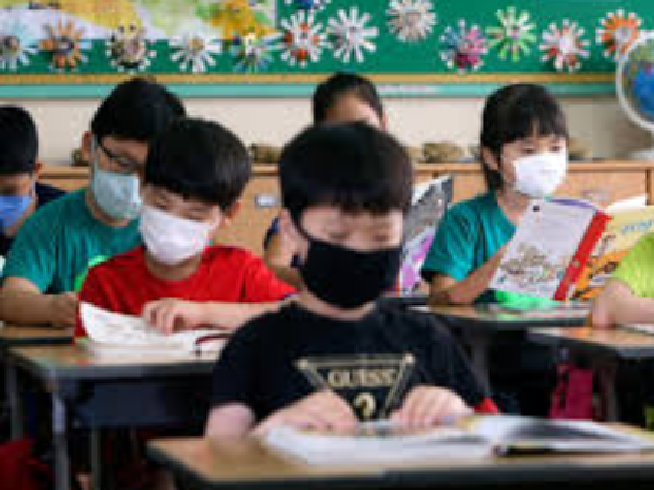with_mask: (284, 173, 404, 306), (125, 170, 225, 262), (485, 119, 568, 197)
